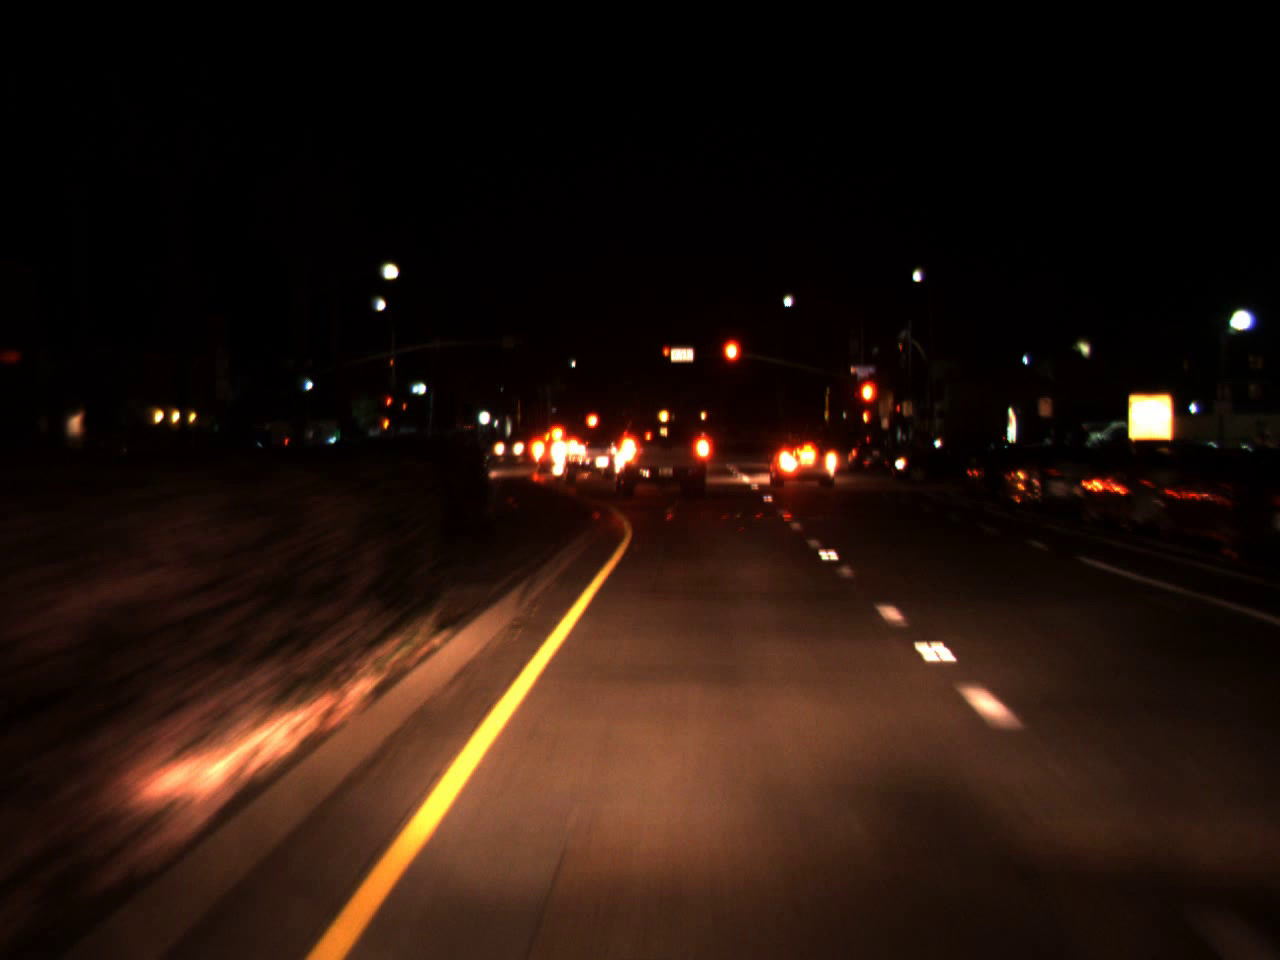stop: (720, 335, 744, 389), (856, 377, 880, 431), (384, 394, 393, 418), (662, 346, 671, 367)
